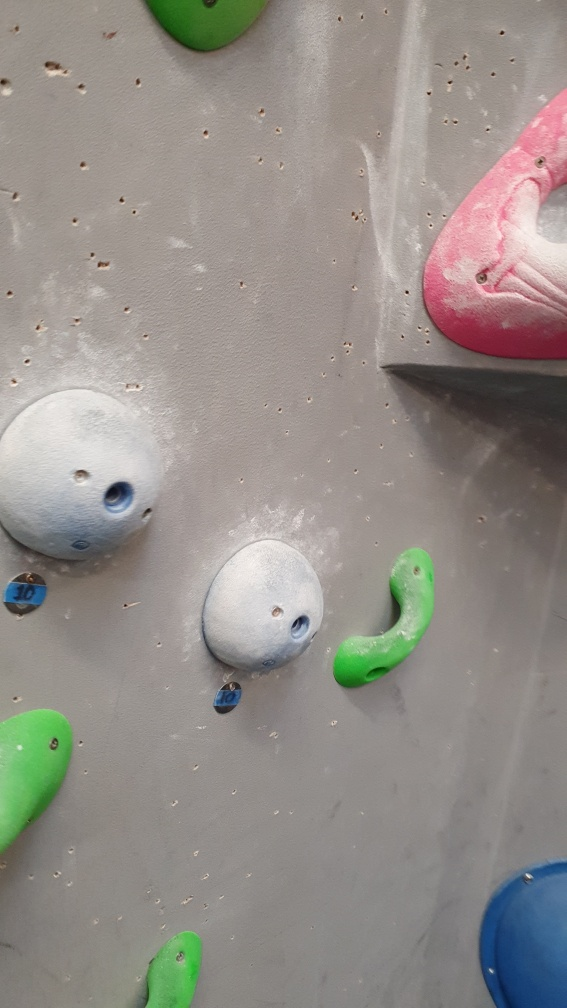Hand Start: (8, 568, 50, 620), (211, 677, 244, 714)
Pocket: (412, 89, 567, 364)
Sloper: (1, 388, 166, 574), (205, 532, 322, 677)
